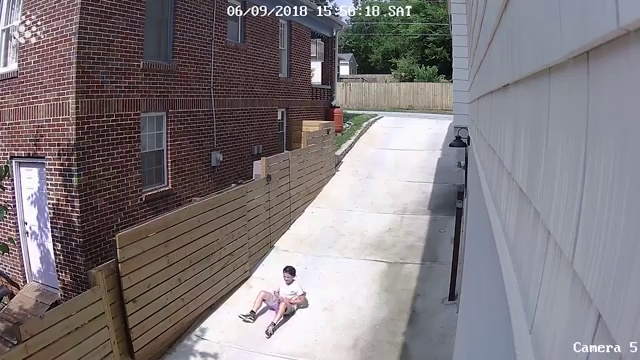face: (283, 272, 293, 285)
